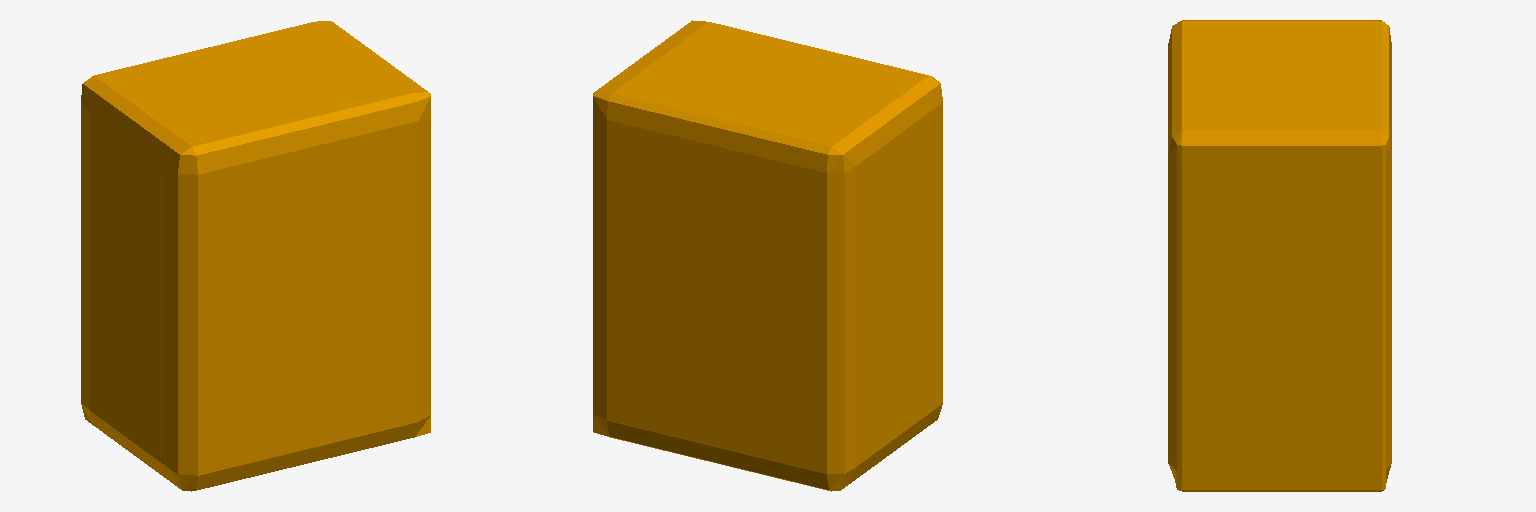
URDF robot description (cylinder_box_197):
<?xml version="1.0" encoding="utf-8"?>  <robot name="cylinder_box_197">   <link name="cylinder_box_197">     <visual>       <geometry>         <mesh filename="../meshes/box/box_197.stl" scale="1 1 1"/>       </geometry>     </visual>     <collision>       <geometry>         <mesh filename="../meshes/box/box_197.stl" scale="1 1 1"/>       </geometry>     </collision>     <inertial>        <origin         xyz="0 0 0"         rpy="0 0 0" />       <mass value="0.40167489991945377"/>       <origin rpy="0 0 0" xyz="0 0 0"/>       <inertia ixx="0.00041613995763102054" ixy="-6.209857443951548e-08" ixz="1.833309687194348e-07" iyy="0.0004983670722639025" iyz="-1.96612175677551e-08" izz="0.00028723525295815523"/>     </inertial>   </link>  </robot>

--- What the picture shows (computed from the rendered views, not written in the file) ---
The picture shows the robot from 3 angles, left to right: view 1: azimuth 30°, elevation 25°; view 2: azimuth 150°, elevation 25°; view 3: azimuth 270°, elevation 25°; orthographic projection.
Robot: cylinder_box_197 — 1 links, 0 joints (none); root link cylinder_box_197; default pose: every joint at zero.
Links seen in each view (by area): view 1: cylinder_box_197; view 2: cylinder_box_197; view 3: cylinder_box_197.
Link boxes in pixels (left/top/right/bottom): cylinder_box_197: left=81, top=21, right=430, bottom=491; cylinder_box_197: left=593, top=20, right=942, bottom=491; cylinder_box_197: left=1168, top=20, right=1391, bottom=491.
Bounding box of the posed robot: 0.0748 × 0.0558 × 0.0973 m (x, y, z).
1 mesh visuals loaded from 1 distinct referenced files (1 binary STL).